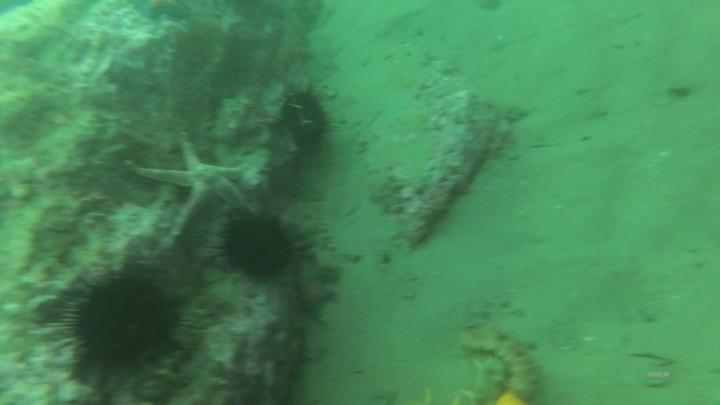echinus: (70, 274, 188, 373), (223, 212, 291, 280), (282, 89, 331, 155)
holothurian: (462, 326, 537, 405)
starfish: (121, 136, 263, 250)
